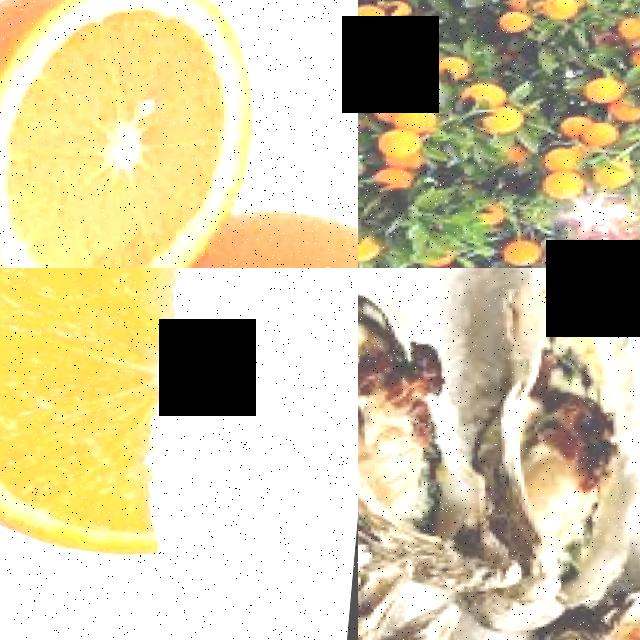orange: (0, 268, 236, 600), (0, 0, 281, 268), (505, 224, 557, 263), (382, 120, 431, 156), (589, 63, 634, 97), (490, 96, 537, 128), (549, 159, 593, 191), (375, 83, 421, 113), (586, 109, 632, 139), (467, 71, 517, 98), (498, 0, 535, 29), (358, 0, 393, 28), (437, 254, 486, 268), (544, 0, 585, 12)
oysters: (448, 268, 640, 608), (358, 268, 506, 588)
